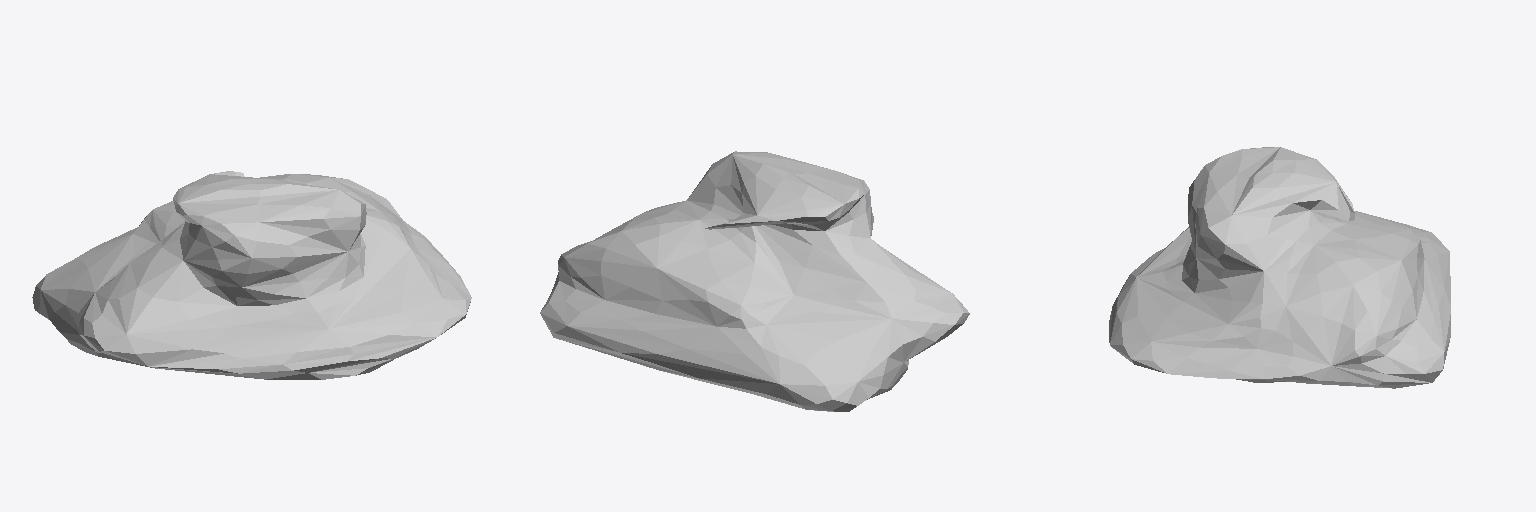
File: clouds01.obj
The picture shows the model from 3 angles: view 1: azimuth 30°, elevation 25°; view 2: azimuth 150°, elevation 25°; view 3: azimuth 270°, elevation 25°; orthographic projection.
Size of the model in its own units: 8.03 by 3.32 by 6.65.